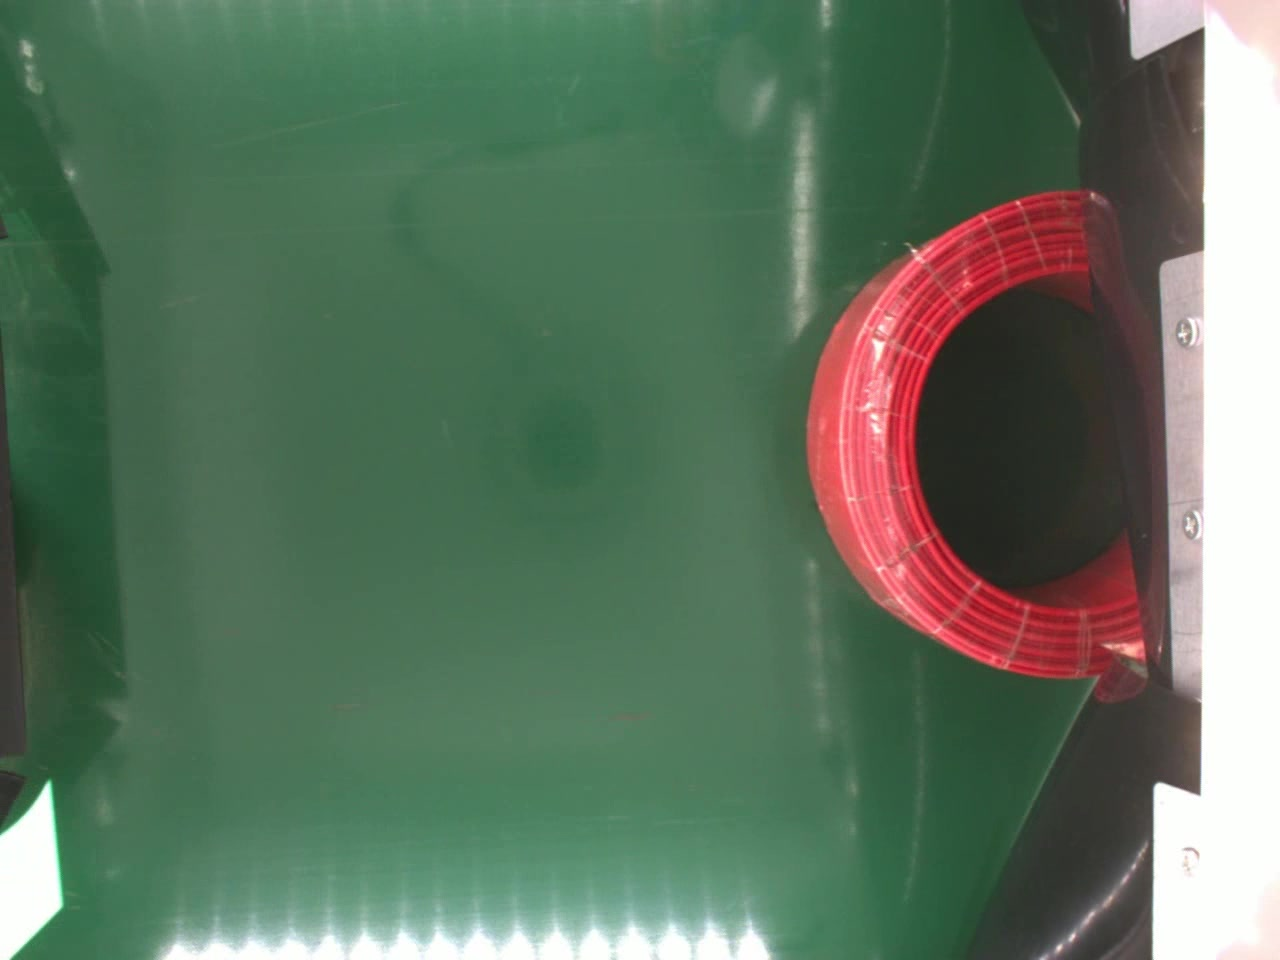red: (802, 183, 1146, 682)
